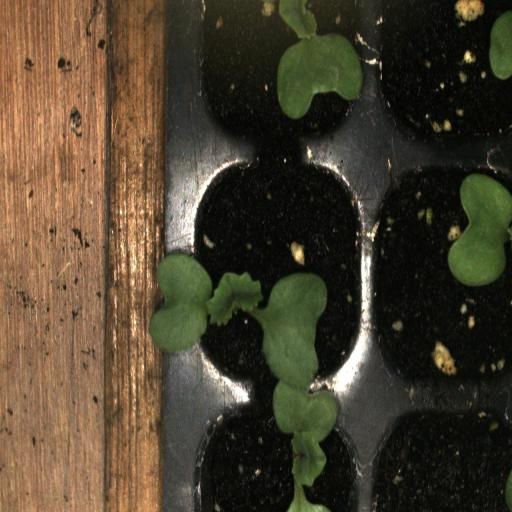Folha: (448, 174, 512, 286)
Germinacao: (183, 156, 367, 390), (184, 0, 368, 158), (186, 389, 367, 512)
